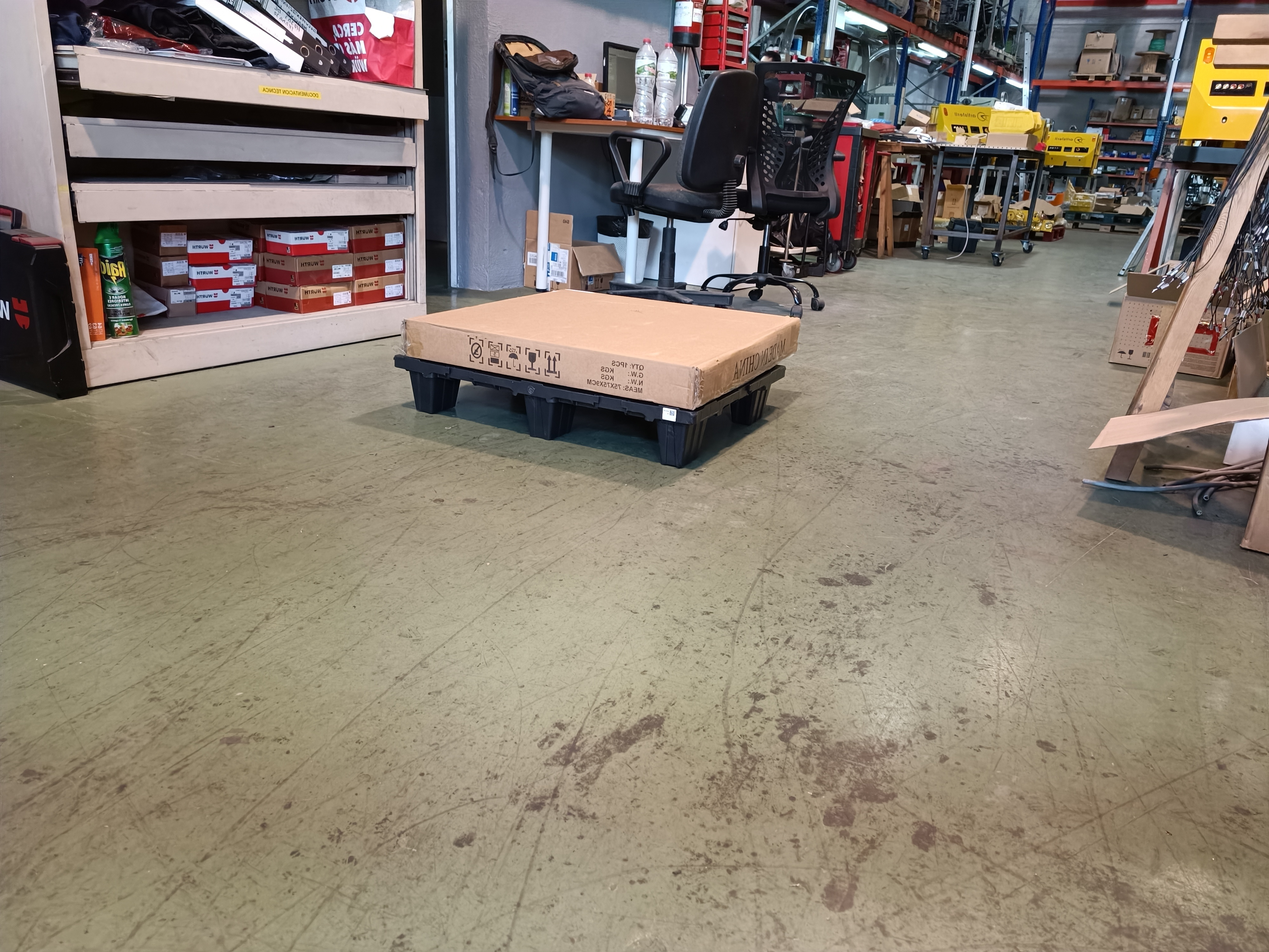block: (406, 365, 458, 419), (655, 421, 695, 471), (520, 397, 558, 443), (731, 390, 772, 423)
front: (391, 359, 692, 466)
hole pallet: (558, 403, 660, 464), (439, 373, 532, 435)
